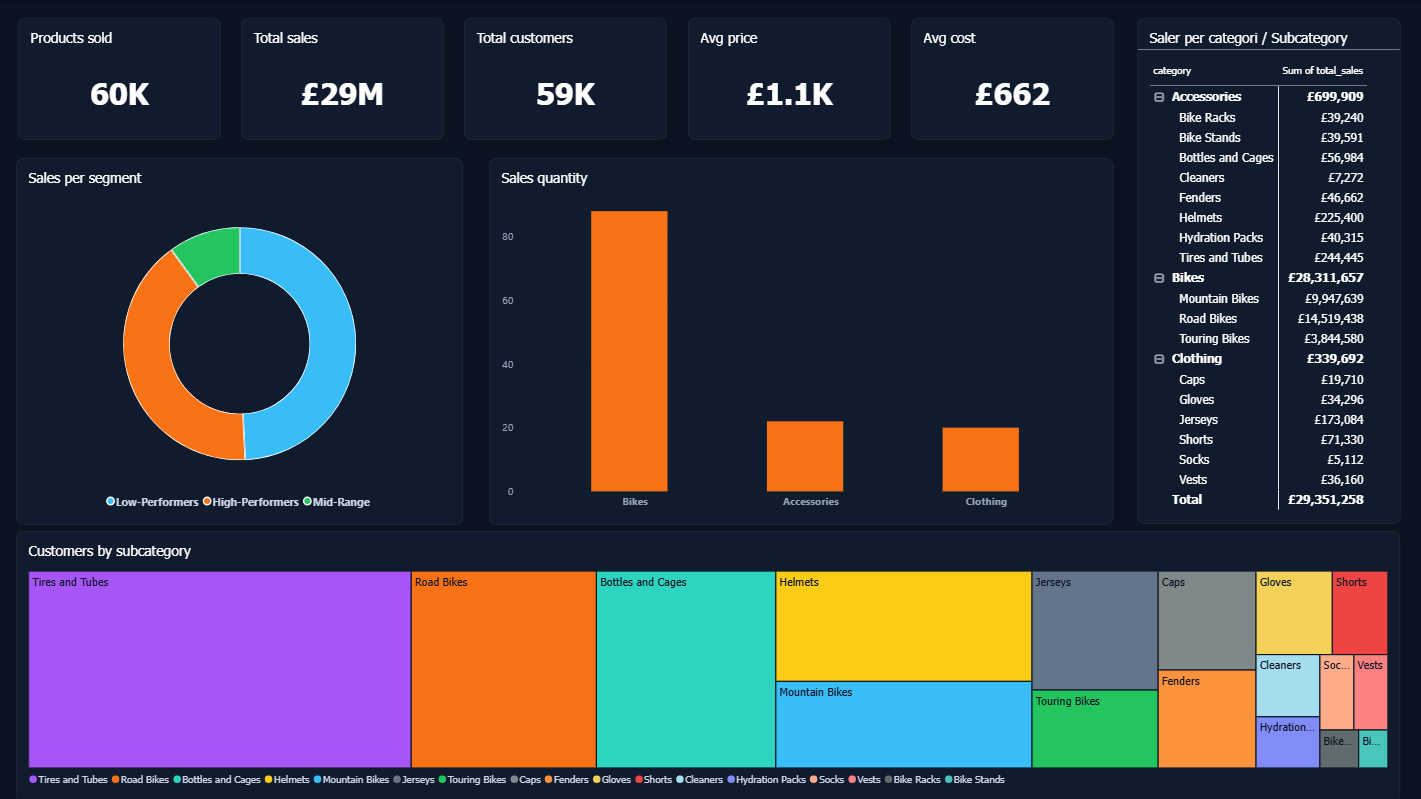

This screenshot's page, from the dashboard's own definition file:
{"tool":"powerbi","page":{"name":"Product","canvas":[1920,1080],"ordinal":0},"visuals":[{"type":"donutChart","title":"Sales per segment","fields":{"Category":["report_products.product_segment"],"Y":["CountNonNull(report_products.total_sales)"]},"box":[24.8,212.1,602.3,493.9],"z":0},{"type":"columnChart","title":"Sales quantity","fields":{"Category":["report_products.category"],"Y":["CountNonNull(report_products.total_quantity)"]},"box":[661.2,212.1,840.8,493.9],"z":1000},{"type":"card","title":"Products sold","fields":{"Values":["Sum(report_products.total_quantity)"]},"box":[26.3,24.8,272.5,164.1],"z":2000},{"type":"card","title":"Total sales","fields":{"Values":["Sum(report_products.total_sales)"]},"box":[327.1,24.8,272.5,164.1],"z":3000},{"type":"card","title":"Total customers","fields":{"Values":["Sum(report_products.total_customers)"]},"box":[627.9,24.8,272.5,164.1],"z":4000},{"type":"card","title":"Avg price","fields":{"Values":["Avg(report_products.avg_selling_price)"]},"box":[928.6,24.8,272.5,164.1],"z":5000},{"type":"pivotTable","title":"Saler per categori / Subcategory","fields":{"Rows":["report_products.category","report_products.subcategory"],"Values":["Sum(report_products.total_sales)"]},"box":[1534.5,24.8,354.6,681.3],"z":6000},{"type":"card","title":"Avg cost","fields":{"Values":["Avg(report_products.cost)"]},"box":[1229.4,24.8,272.5,164.1],"z":6001},{"type":"treemap","title":"Customers by subcategory","fields":{"Group":["report_products.subcategory"],"Values":["Sum(report_products.total_customers)"]},"box":[24.8,715.4,1864.3,365.4],"z":6002}]}

Visuals, with their boxes in screenshot pixels (x1, y1, x2, y2), scaled from the page's 1920x1080 canvas onto the 1421x799 screenshot:
"Sales per segment" donutChart: (18, 157, 464, 522)
"Sales quantity" columnChart: (489, 157, 1112, 522)
"Products sold" card: (19, 18, 221, 140)
"Total sales" card: (242, 18, 444, 140)
"Total customers" card: (465, 18, 666, 140)
"Avg price" card: (687, 18, 889, 140)
"Saler per categori / Subcategory" pivotTable: (1136, 18, 1398, 522)
"Avg cost" card: (910, 18, 1112, 140)
"Customers by subcategory" treemap: (18, 529, 1398, 798)
